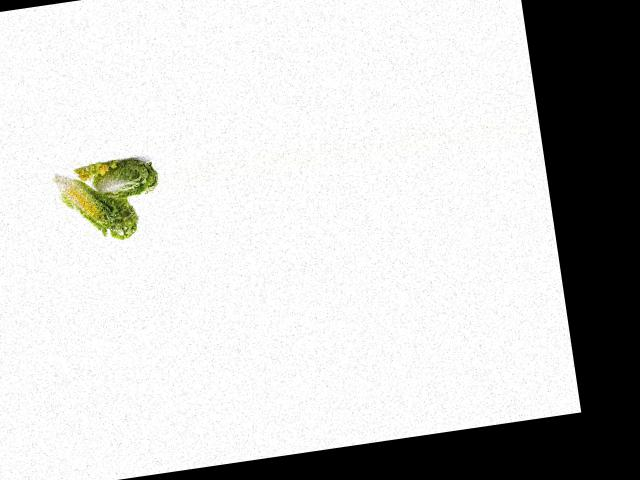lettuce: (81, 151, 158, 205)
